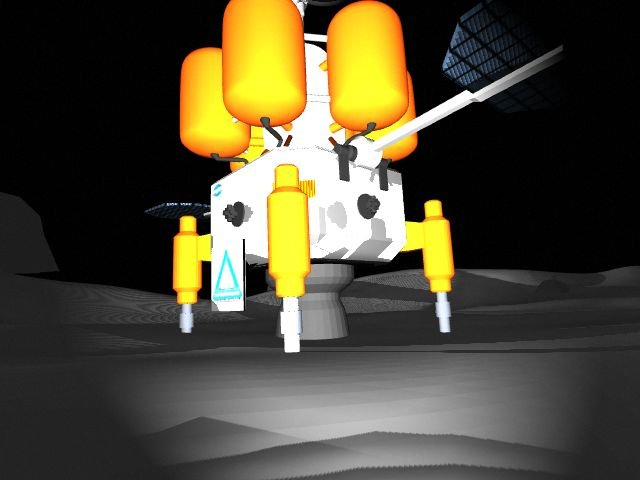basemarker: (210, 248, 244, 303)
